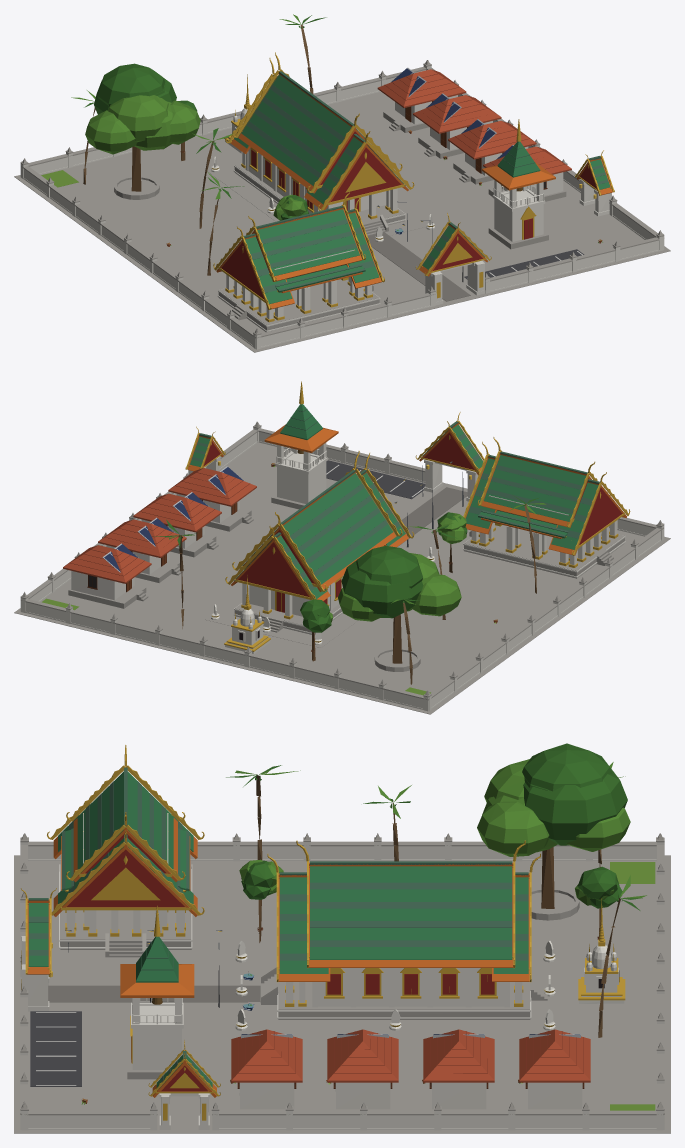
Rendered from temple_2.glb.
3 views of the same model, one above another, from view 1: azimuth 30°, elevation 25°; view 2: azimuth 150°, elevation 25°; view 3: azimuth 270°, elevation 25° (orthographic). The views are drawn at different scales.
Parts seen in each view (by area): view 1: body; view 2: body; view 3: body.
Boxes of the visible parts, x1=… form: body: x1=14, y1=14, x2=670, y2=352; body: x1=14, y1=381, x2=670, y2=714; body: x1=14, y1=743, x2=670, y2=1133.
Size of the model in its own units: 47.9 by 13.28 by 47.9.
